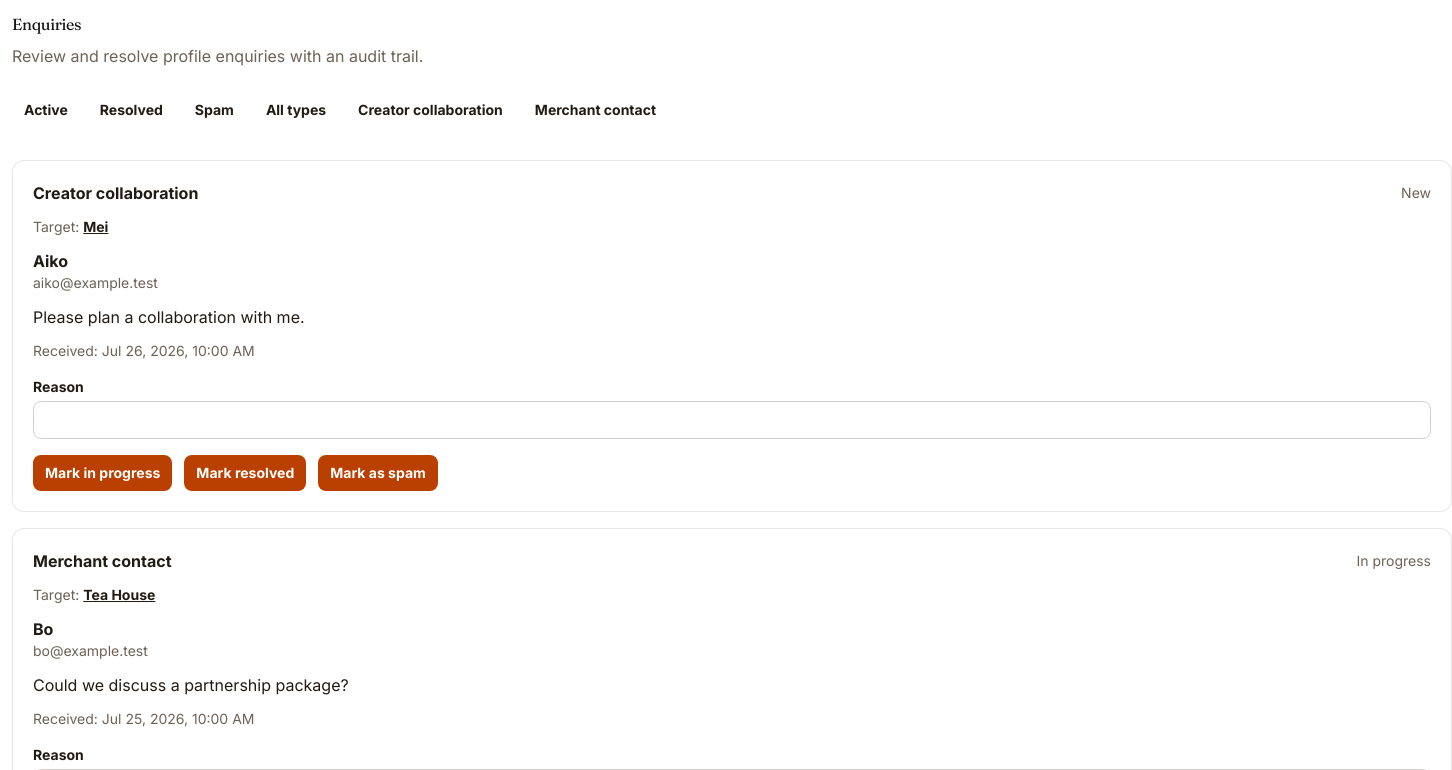
Test case: AdminEnquiriesView › retains a failed row and its reason with accessible feedback
This screenshot has width=1452, height=770.
In the field labelled "Reason" below "Jul 26, 2026, 10:00 AM": x=732, y=420 [33,401,1431,439], type "Completed elsewhere"
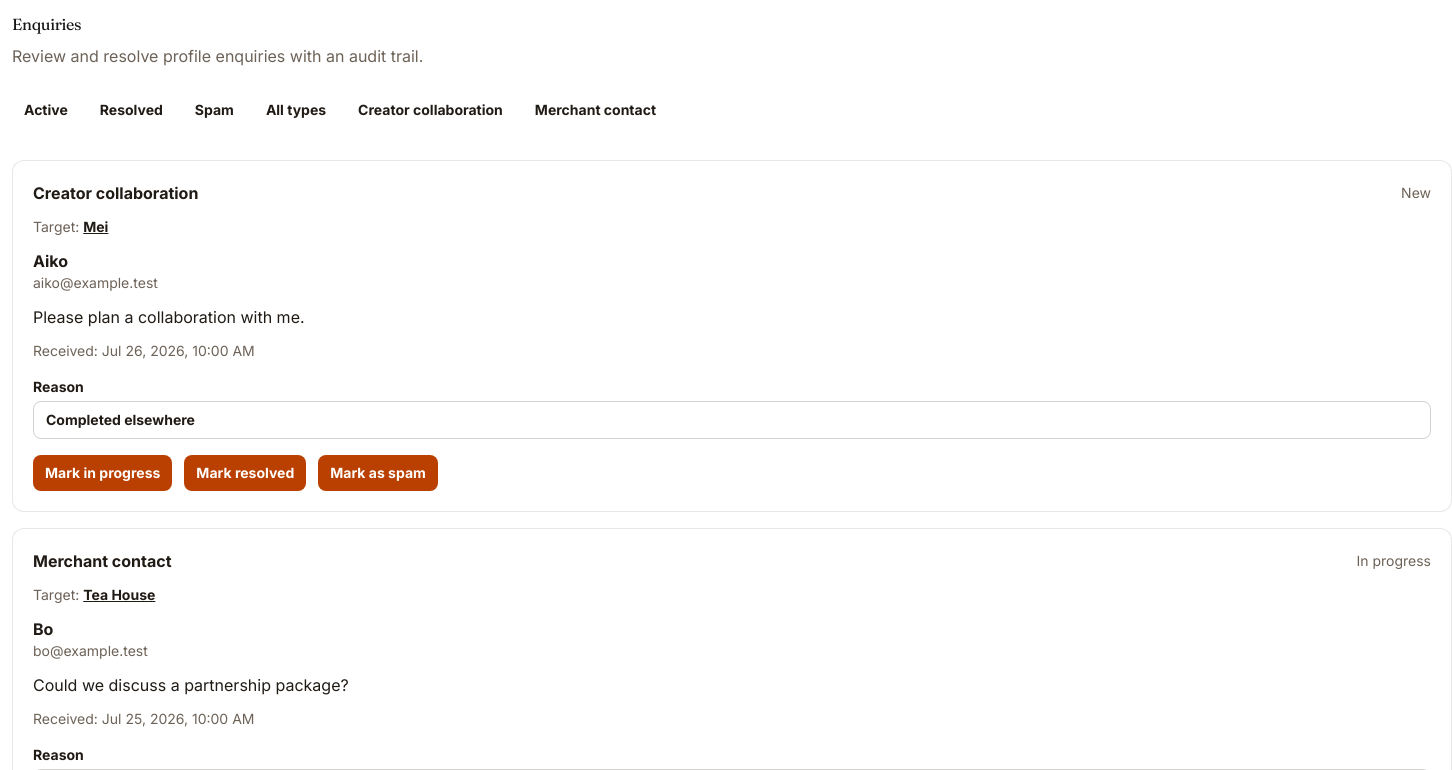
Click the button "Mark resolved": x=245, y=473 [184,455,306,491]
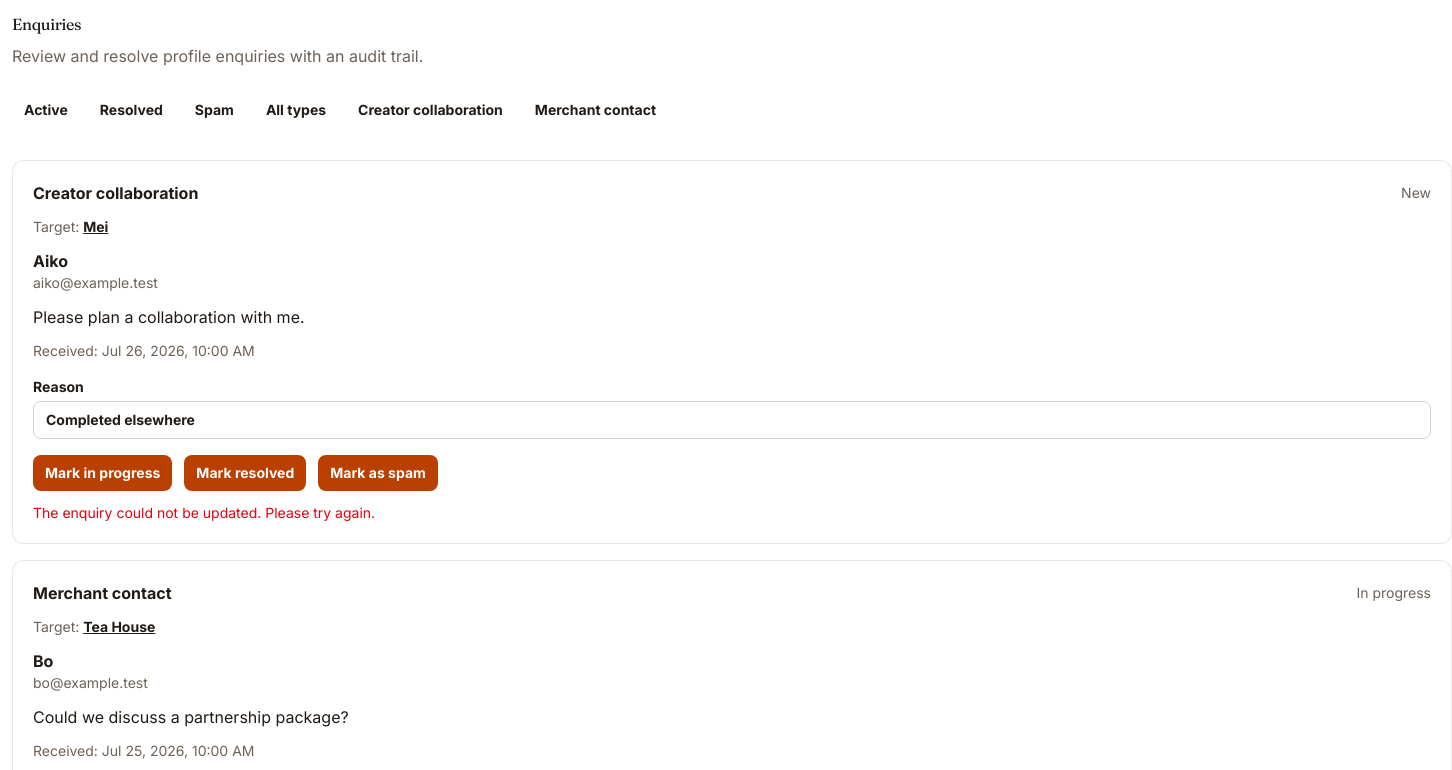
expect the text "Aiko" is shown: met, box [33,251,68,271]
expect the message reads "The enquiry could not be updated. Please try again.": met, box [33,504,375,521]
